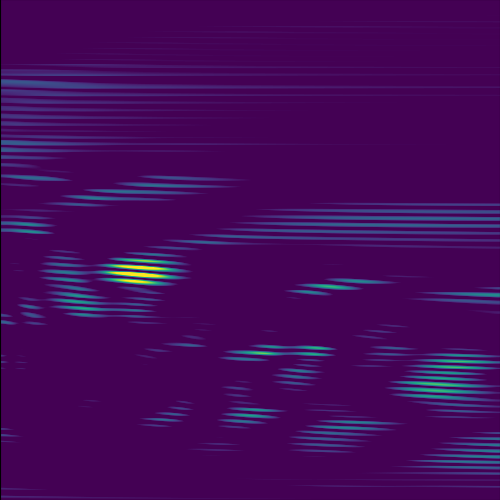semblance: (90, 258, 191, 288)
